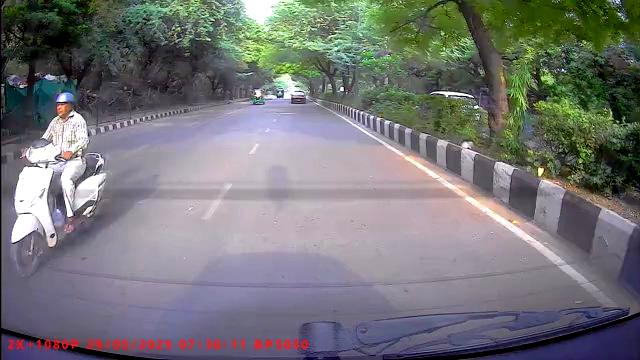motorcycle_with_helmet: (11, 91, 110, 279)
